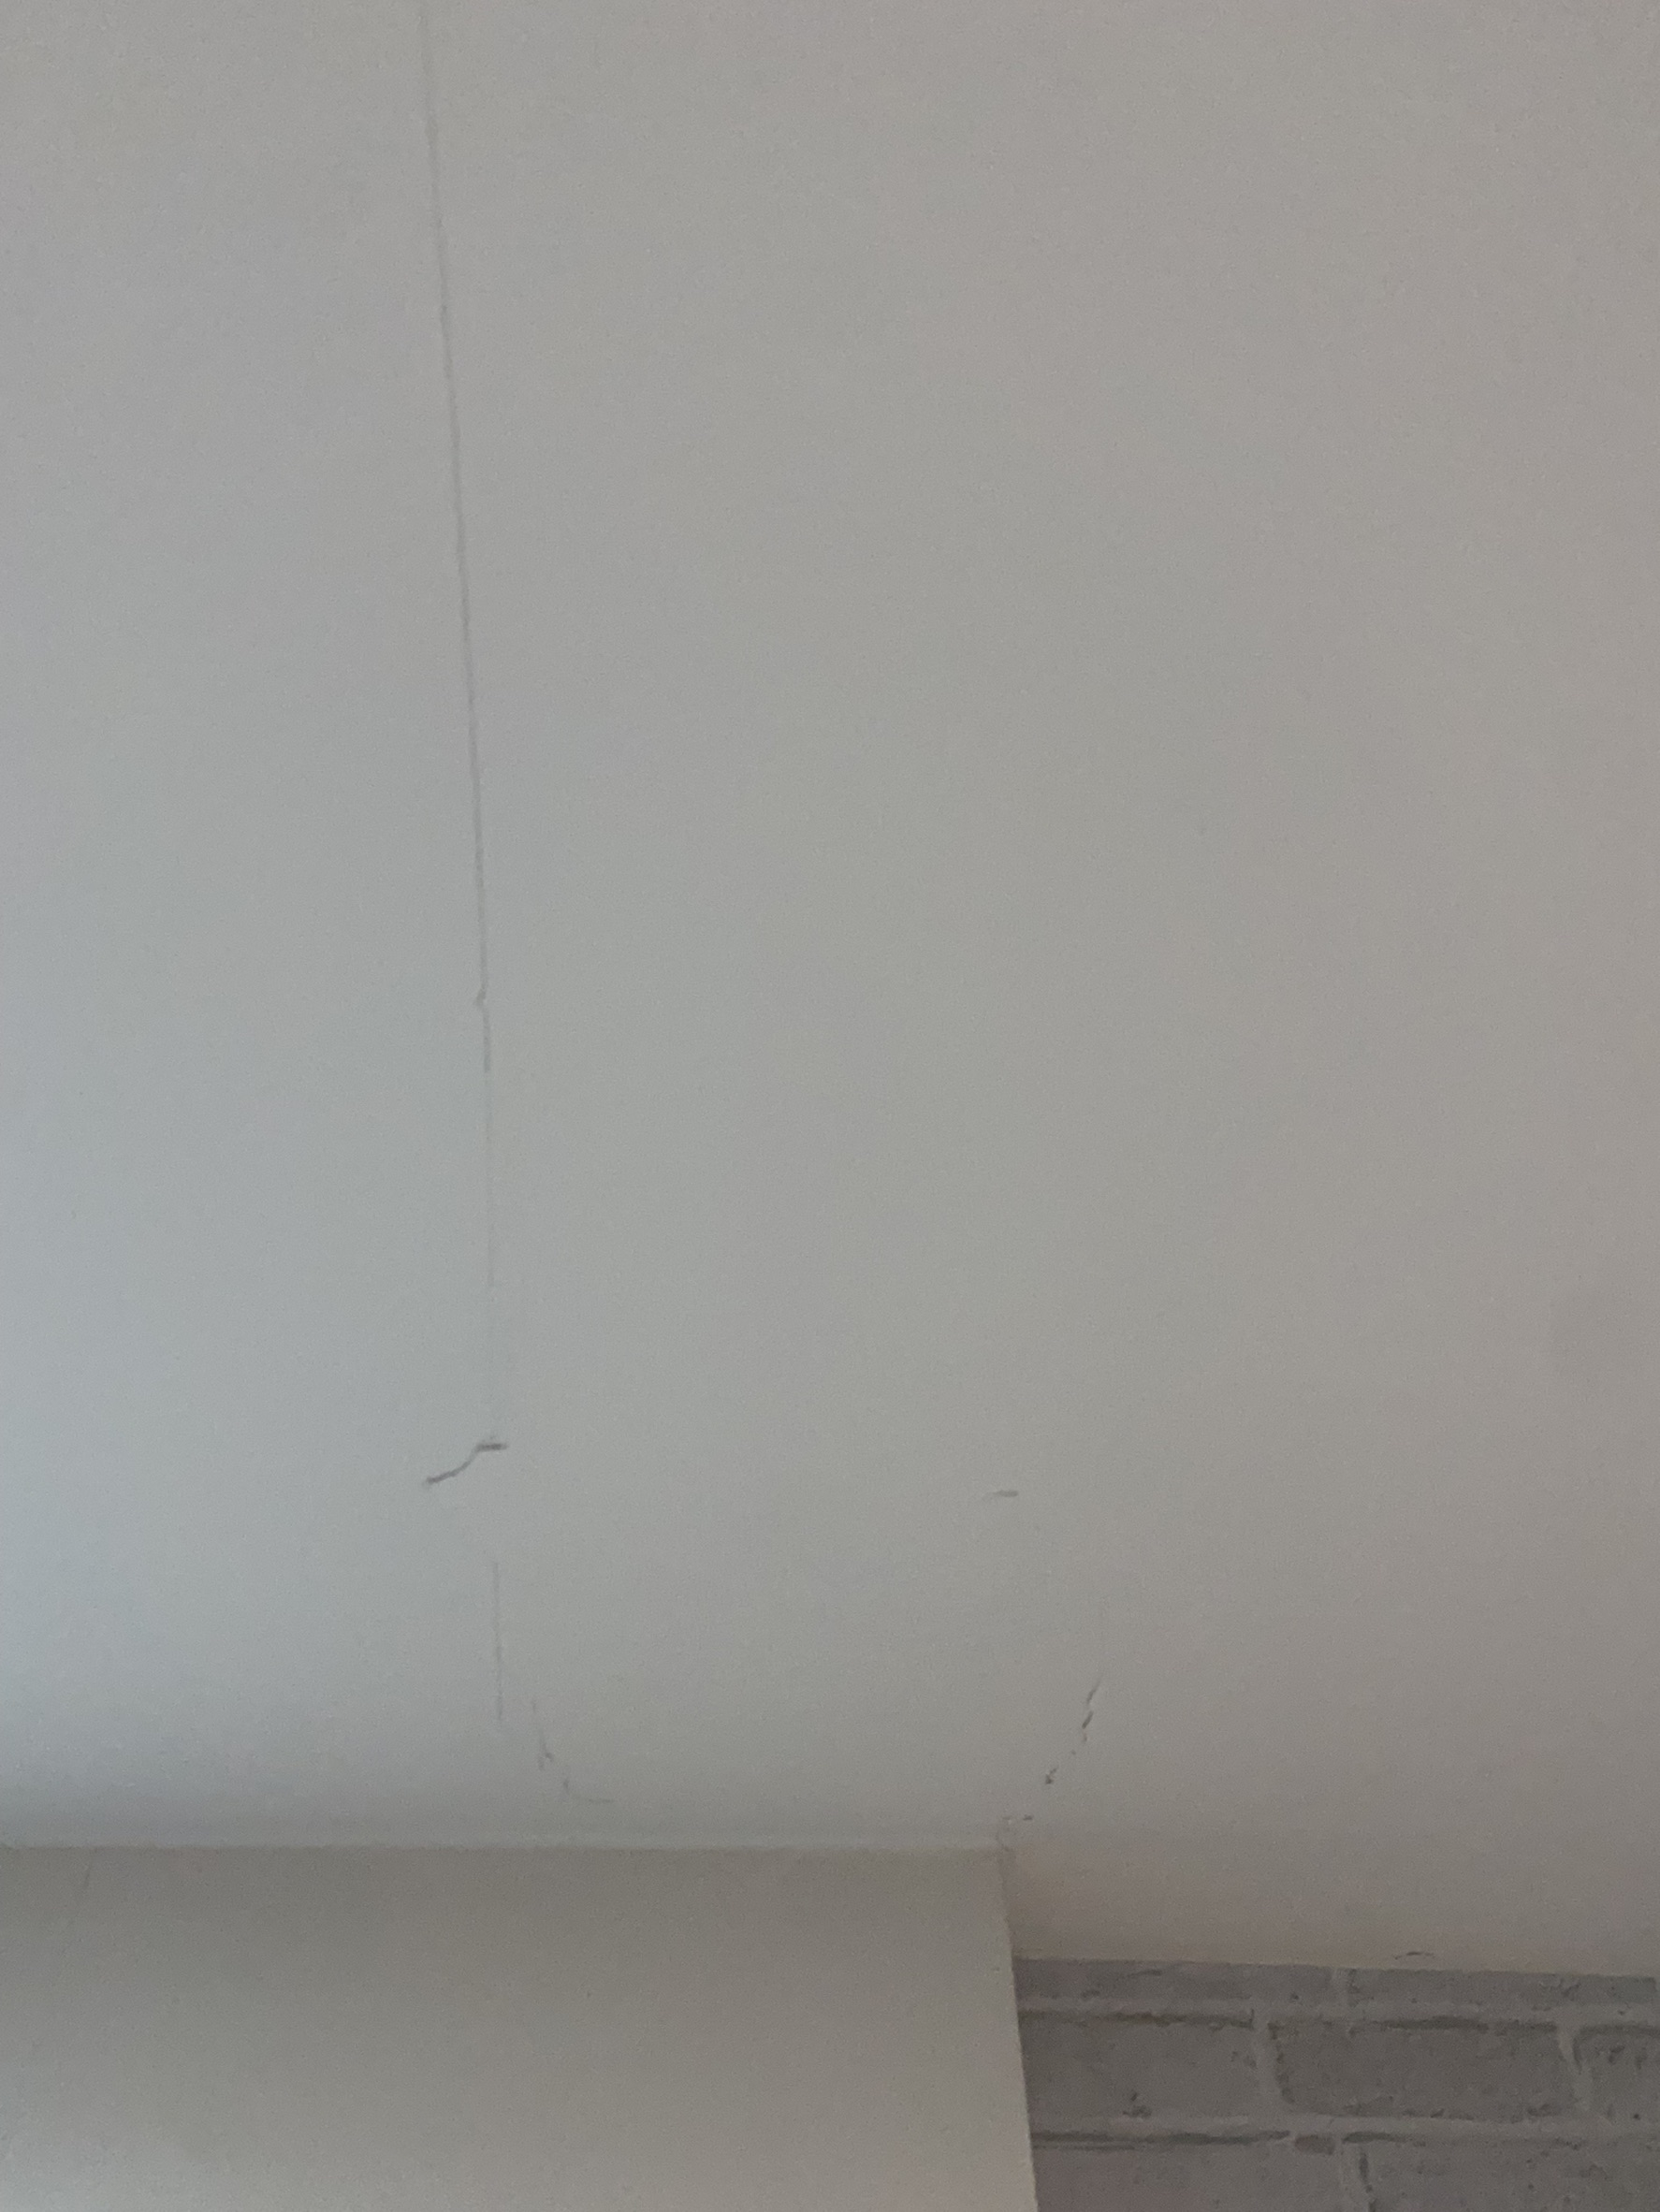Low: (342, 17, 1224, 1865)
